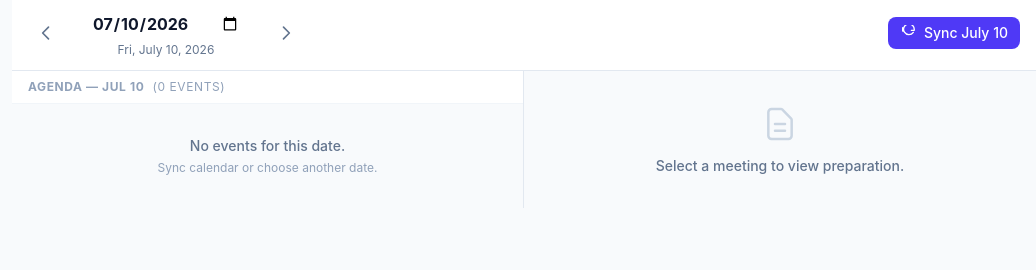
Test case: MeetingsView — Calendar Sync › renders meetings immediately after sync
Click the button "Sync July 10".
click(954, 33)  # box [888,17,1020,49]
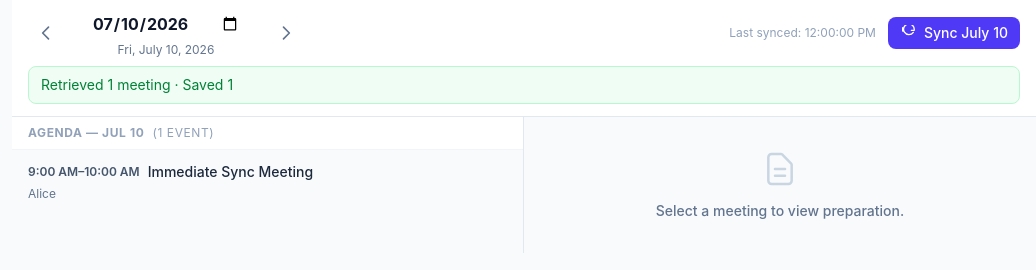
Check: the heading "Immediate Sync Meeting" is shown, box [148,162,313,182]
